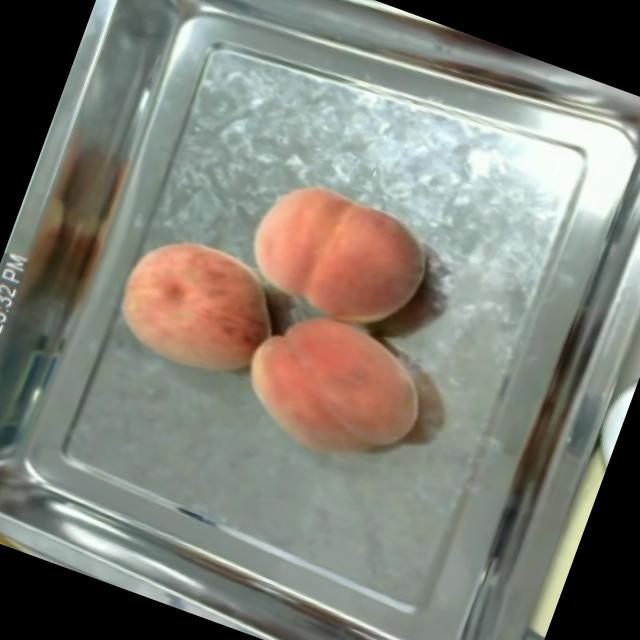Fruit: (222, 289, 446, 489), (231, 161, 448, 348), (98, 215, 296, 398)
